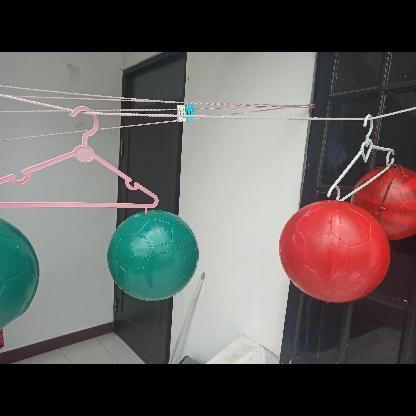red_ball: (281, 193, 391, 303)
